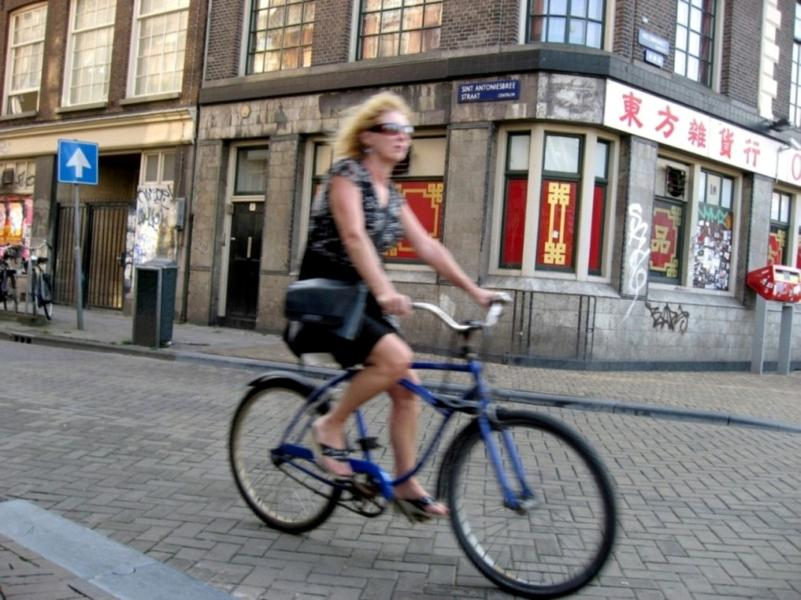person: (280, 87, 515, 519)
